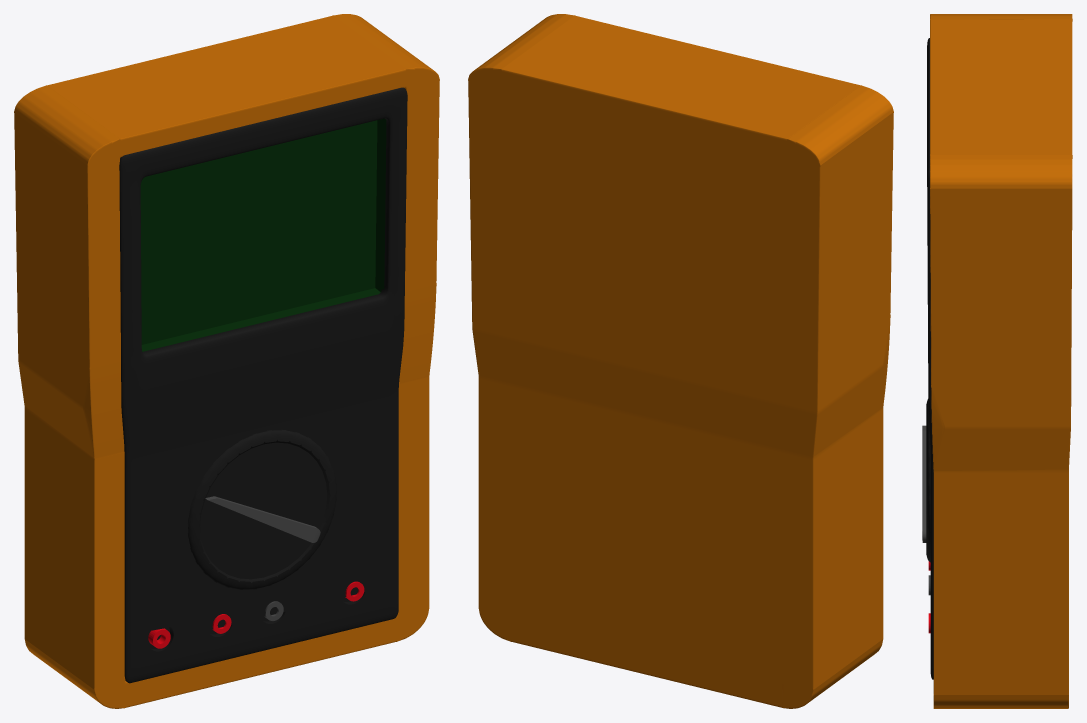
Rendered from 1_ multimeter digital.fbx.
3 renders of one model, left to right at view 1: azimuth 30°, elevation 25°; view 2: azimuth 150°, elevation 25°; view 3: azimuth 270°, elevation 25°, orthographic. The views are drawn at different scales.
Parts seen in each view (by area): view 1: Cube, Cube.001, Cube.002, Cylinder, Cube.003; view 2: Cube; view 3: Cube, Cube.001, Cylinder, Cube.003.
Part boxes in pixels (left/top/right/bottom): Cube: left=14, top=14, right=439, bottom=708; Cube.001: left=119, top=87, right=407, bottom=683; Cube.002: left=140, top=118, right=386, bottom=351; Cylinder: left=188, top=430, right=336, bottom=589; Cube.003: left=205, top=496, right=320, bottom=542; Cube: left=468, top=14, right=893, bottom=708; Cube: left=930, top=14, right=1072, bottom=708; Cube.001: left=927, top=38, right=933, bottom=679; Cylinder: left=926, top=399, right=930, bottom=562; Cube.003: left=922, top=425, right=926, bottom=542.
Bounding box in the file's own units: 1465 × 2272 × 558.
